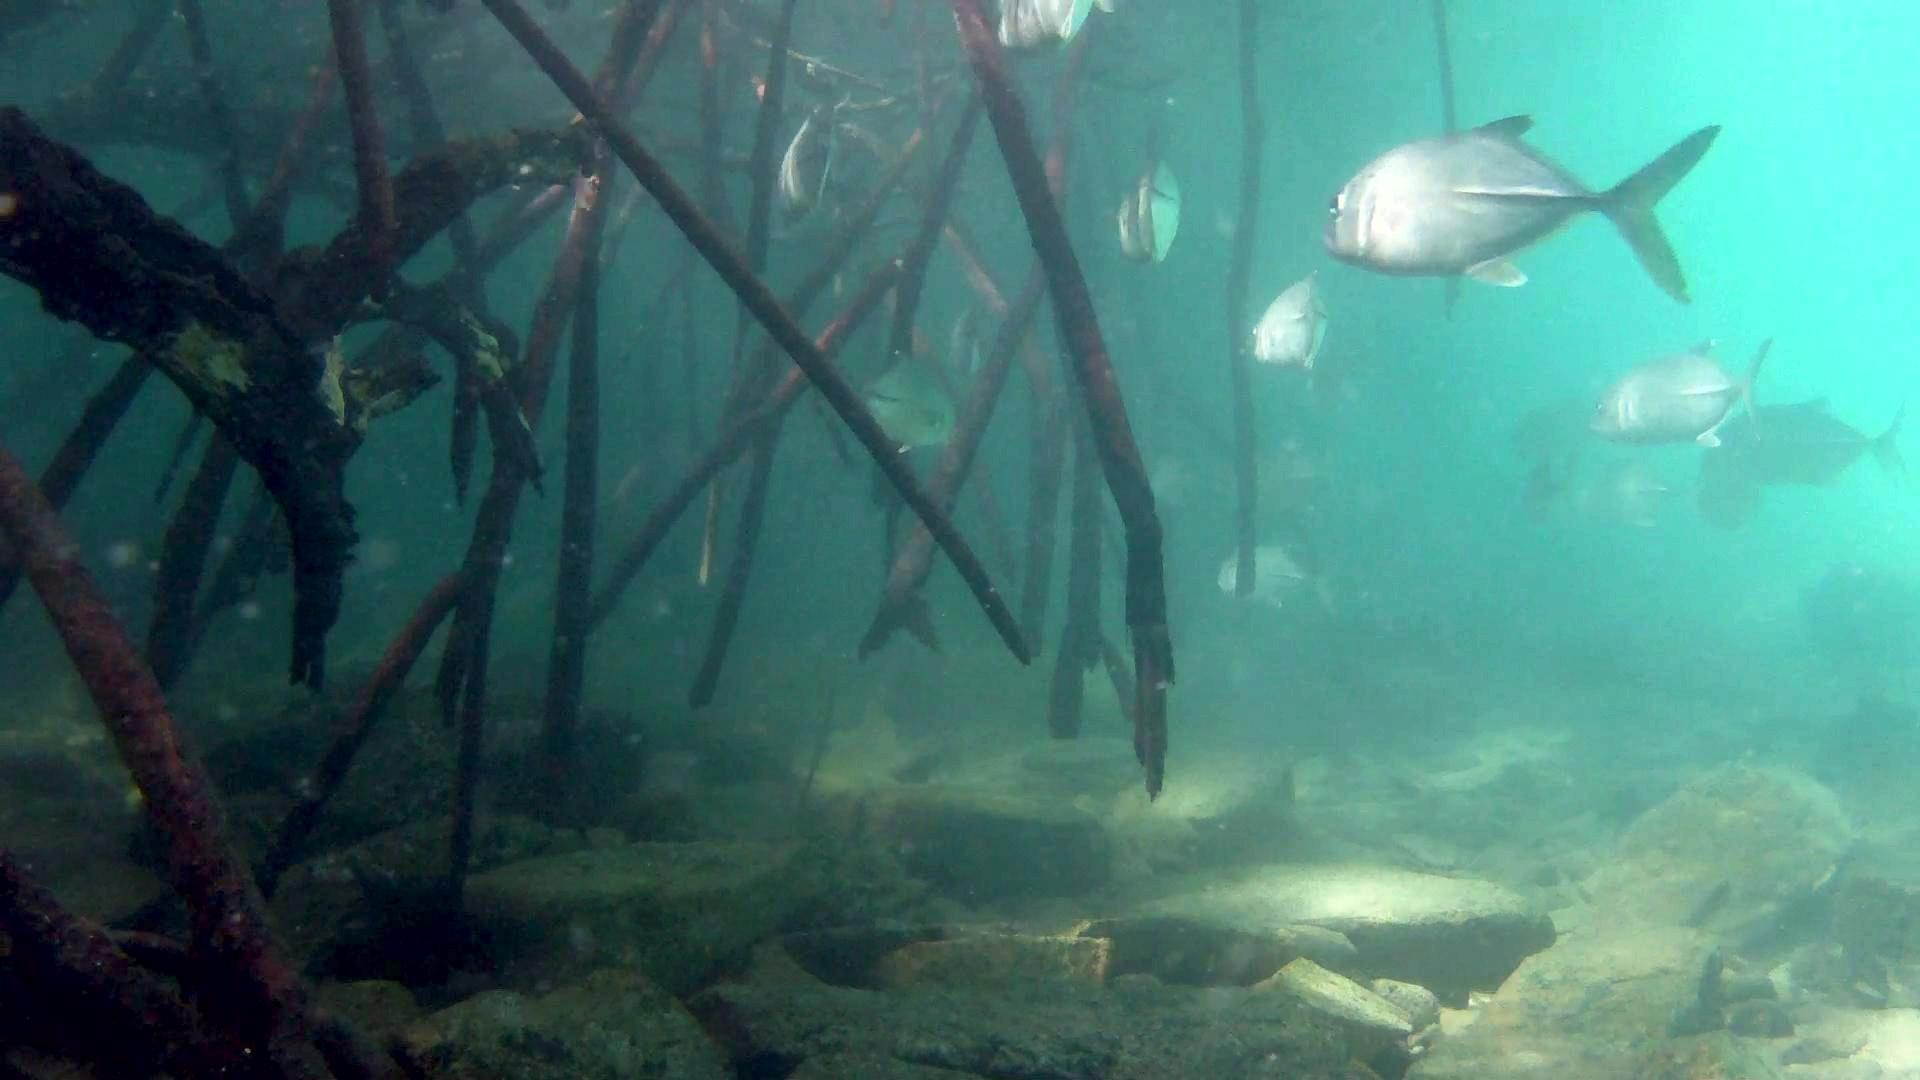caranx: (1313, 100, 1729, 322)
